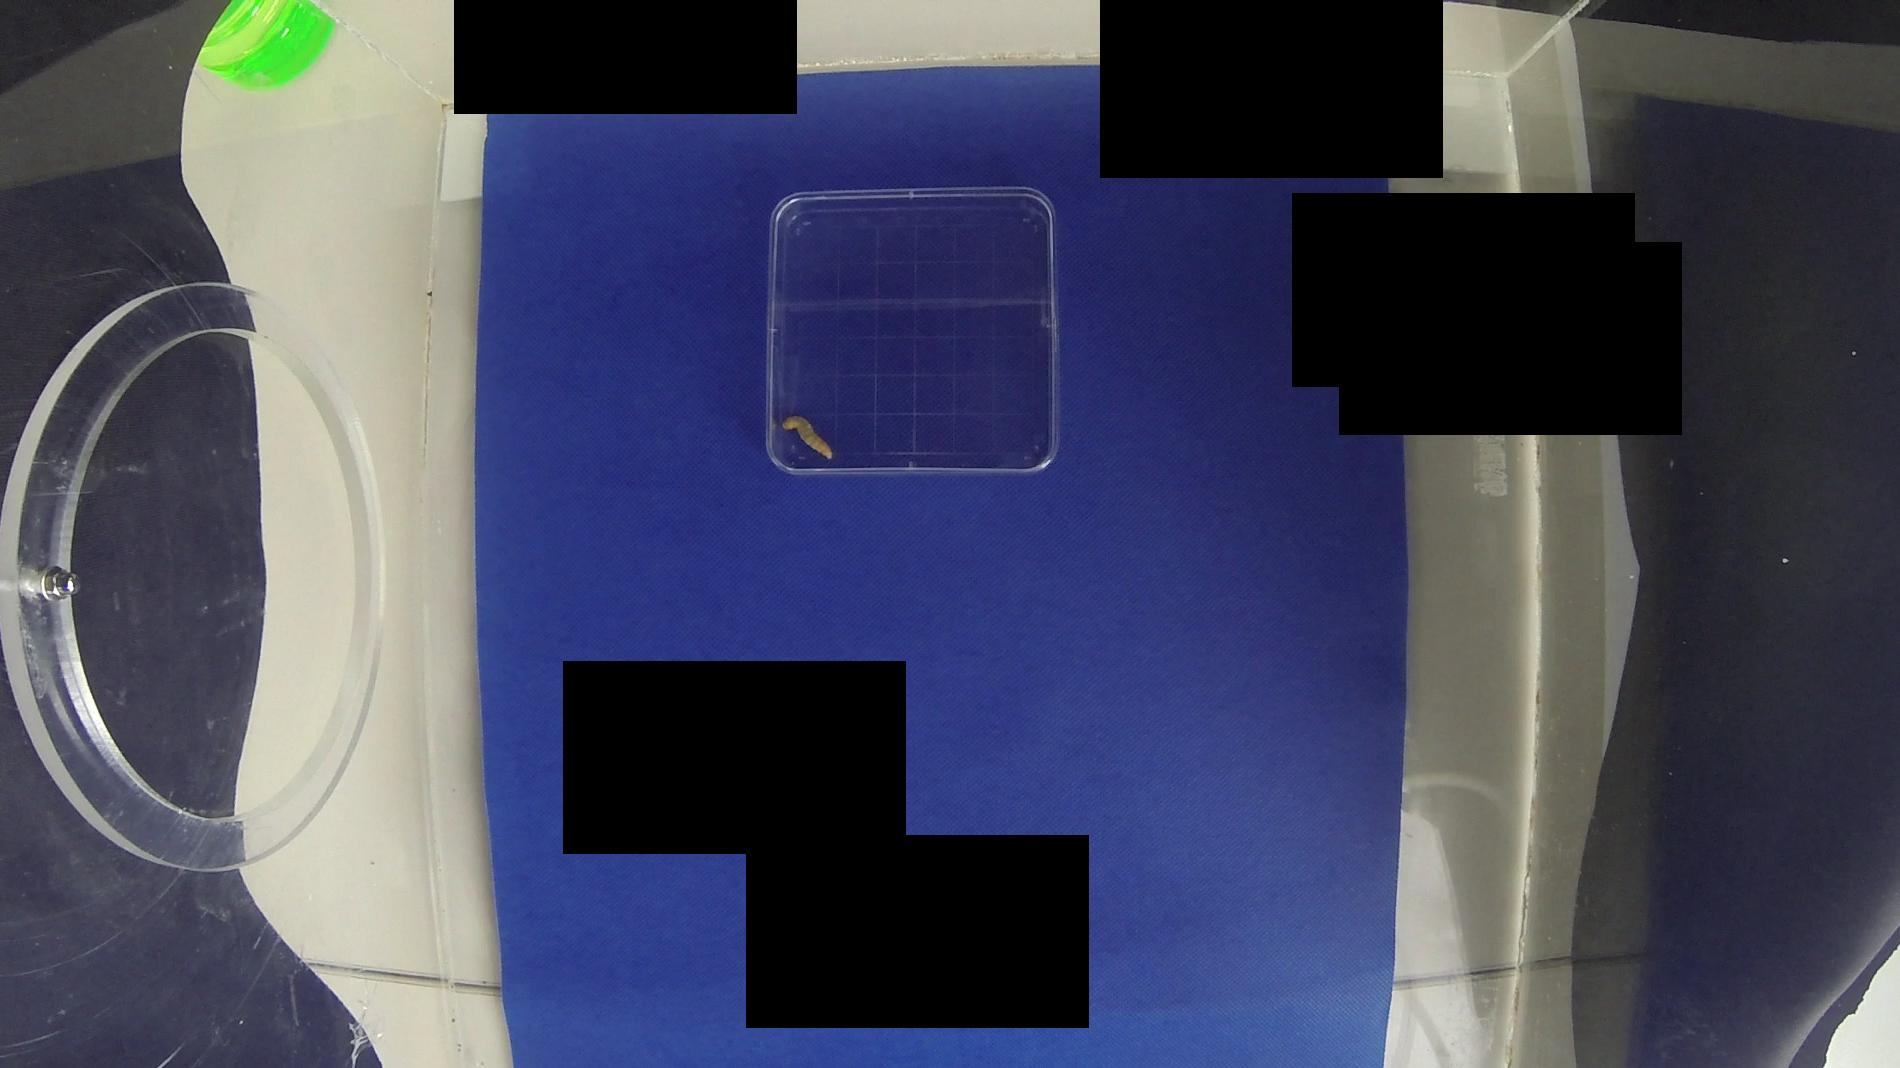larva: (779, 406, 844, 466)
